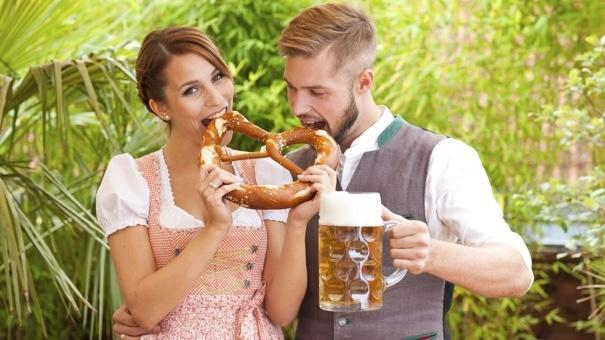glass-mug: (314, 188, 414, 315)
